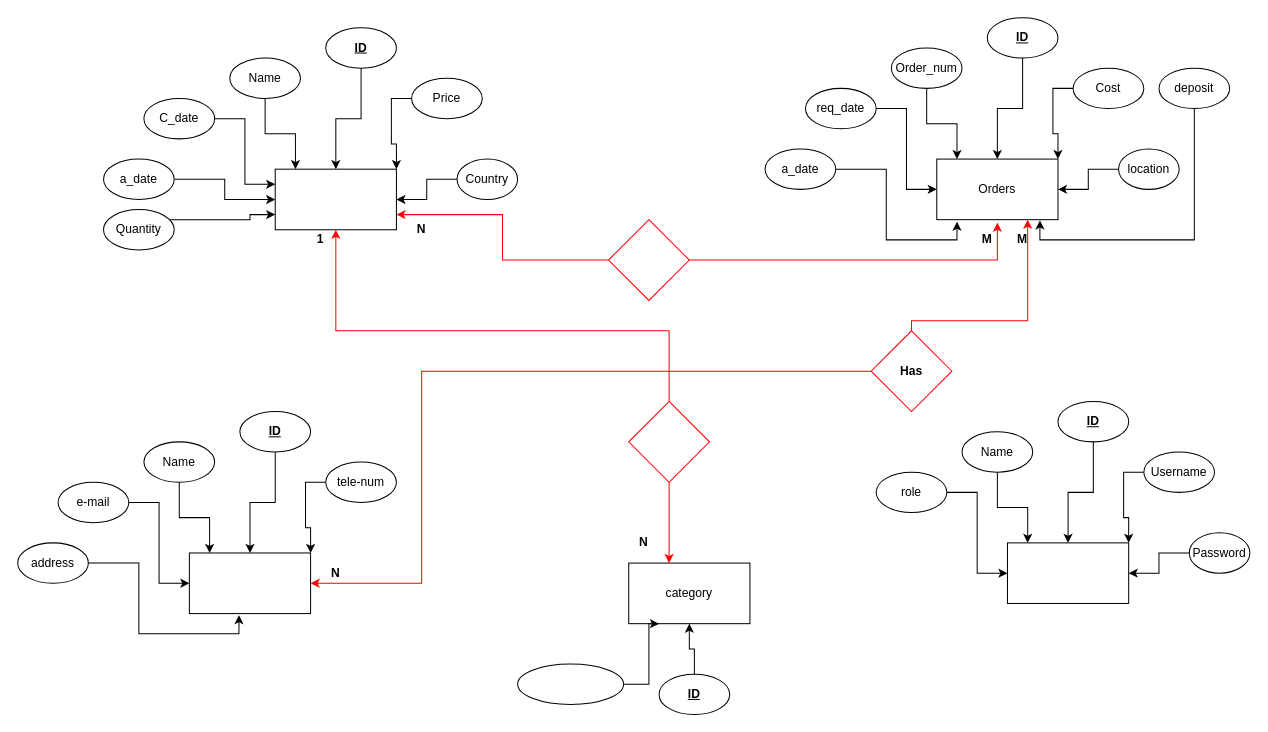
Some shapes in this 1268 by 732 pixel diagram are drawn without their labels. The centre of each missing label's shape, as x and y in pixels:
"category_name" goes at (x=570, y=683).
"contain" goes at (x=648, y=259).
"customer" goes at (x=249, y=583).
"Have" goes at (x=669, y=441).
"Product" goes at (x=335, y=199).
"user" goes at (x=1067, y=572).
